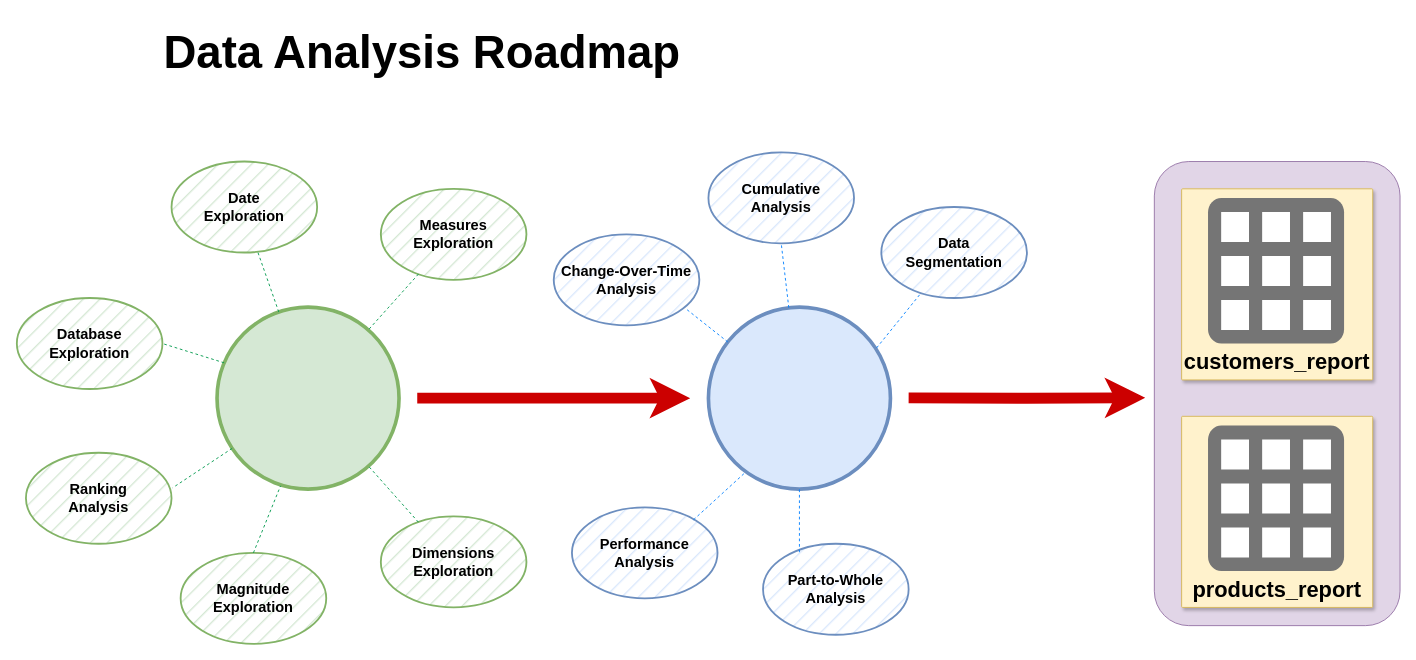
The diagram is 1416 pixels wide and 660 high, and some of its shapes have lost their labels. The centre of each missing label's shape, as x and y in pixels:
"Advanced Data Analytics (ADA)" goes at (x=799, y=397).
"Exploratory Data Analysis (EDA)" goes at (x=307, y=397).
